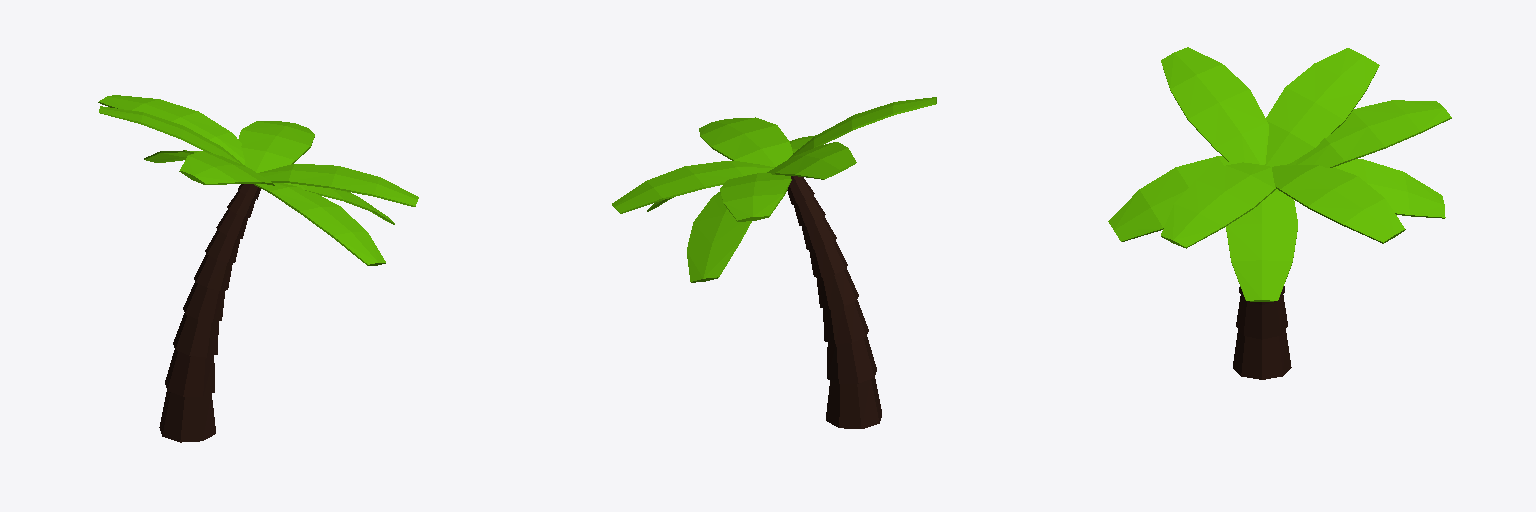
Rendered from Palm_Tree_01.obj.
3 renders of one model, left to right at view 1: azimuth 30°, elevation 25°; view 2: azimuth 150°, elevation 25°; view 3: azimuth 270°, elevation 25°, orthographic.
Parts seen in each view (by area): view 1: PALM_LEAF, TRUNK; view 2: PALM_LEAF, TRUNK; view 3: PALM_LEAF, TRUNK.
Part boxes in pixels (left/top/right/bottom): PALM_LEAF: left=98, top=95, right=418, bottom=265; TRUNK: left=159, top=184, right=260, bottom=442; PALM_LEAF: left=612, top=97, right=936, bottom=282; TRUNK: left=787, top=176, right=881, bottom=428; PALM_LEAF: left=1108, top=47, right=1451, bottom=301; TRUNK: left=1233, top=286, right=1291, bottom=379.
Size of the model in its own units: 8.01 by 9.28 by 9.68.